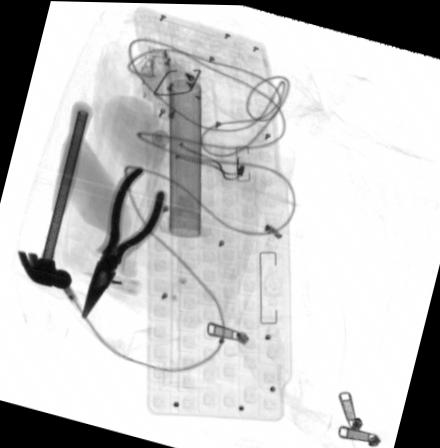Hammer: (16, 99, 91, 287)
Pliers: (80, 165, 167, 318)
